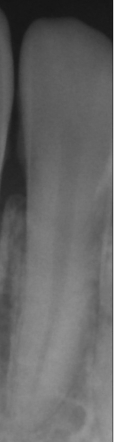tooth: (10, 15, 113, 430)
